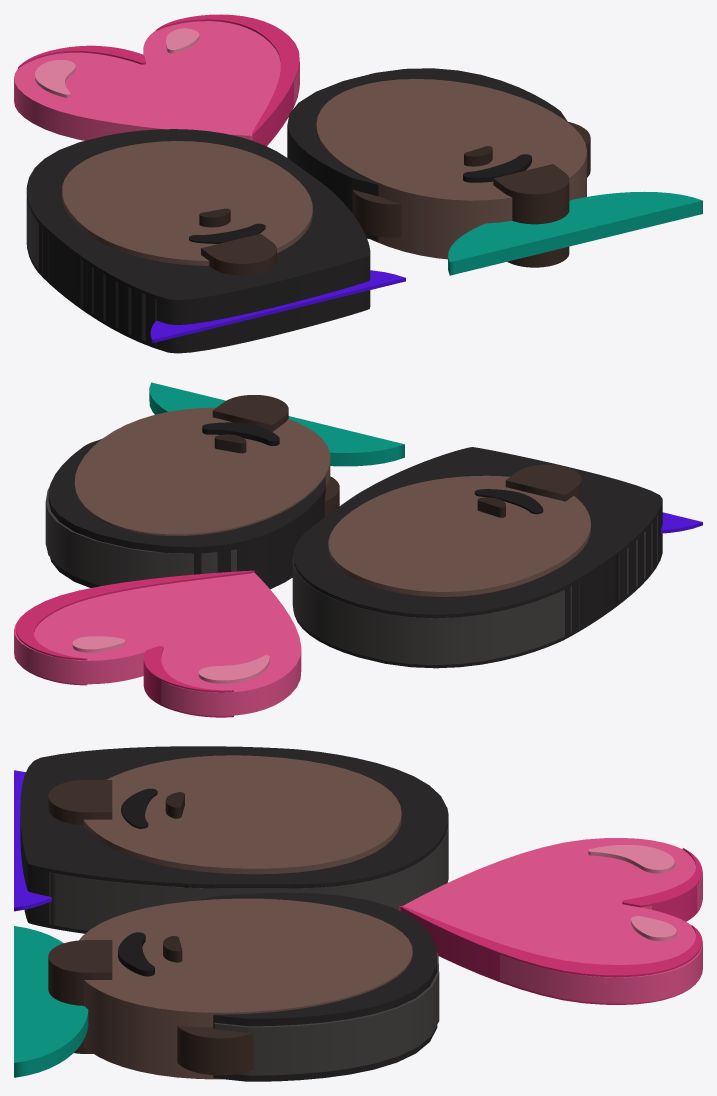
File: emoji_u1f469_1f3ff_200d_2764_200d_1f468_1f3ff.glb
The picture shows the model from 3 angles, top to bottom: view 1: azimuth 30°, elevation 25°; view 2: azimuth 150°, elevation 25°; view 3: azimuth 270°, elevation 25°; orthographic projection. The views are drawn at different scales.
Visible parts, largest first — view 1: emoji_u1f469_1f3ff_200d_2764_200d_1f468_1f3ff; view 2: emoji_u1f469_1f3ff_200d_2764_200d_1f468_1f3ff; view 3: emoji_u1f469_1f3ff_200d_2764_200d_1f468_1f3ff.
Part boxes in pixels (<box>): emoji_u1f469_1f3ff_200d_2764_200d_1f468_1f3ff: <box>14,14,702,353</box>; emoji_u1f469_1f3ff_200d_2764_200d_1f468_1f3ff: <box>14,382,702,717</box>; emoji_u1f469_1f3ff_200d_2764_200d_1f468_1f3ff: <box>14,746,702,1081</box>.
Size of the model in its own units: 0.0346 by 0.005 by 0.0337.
